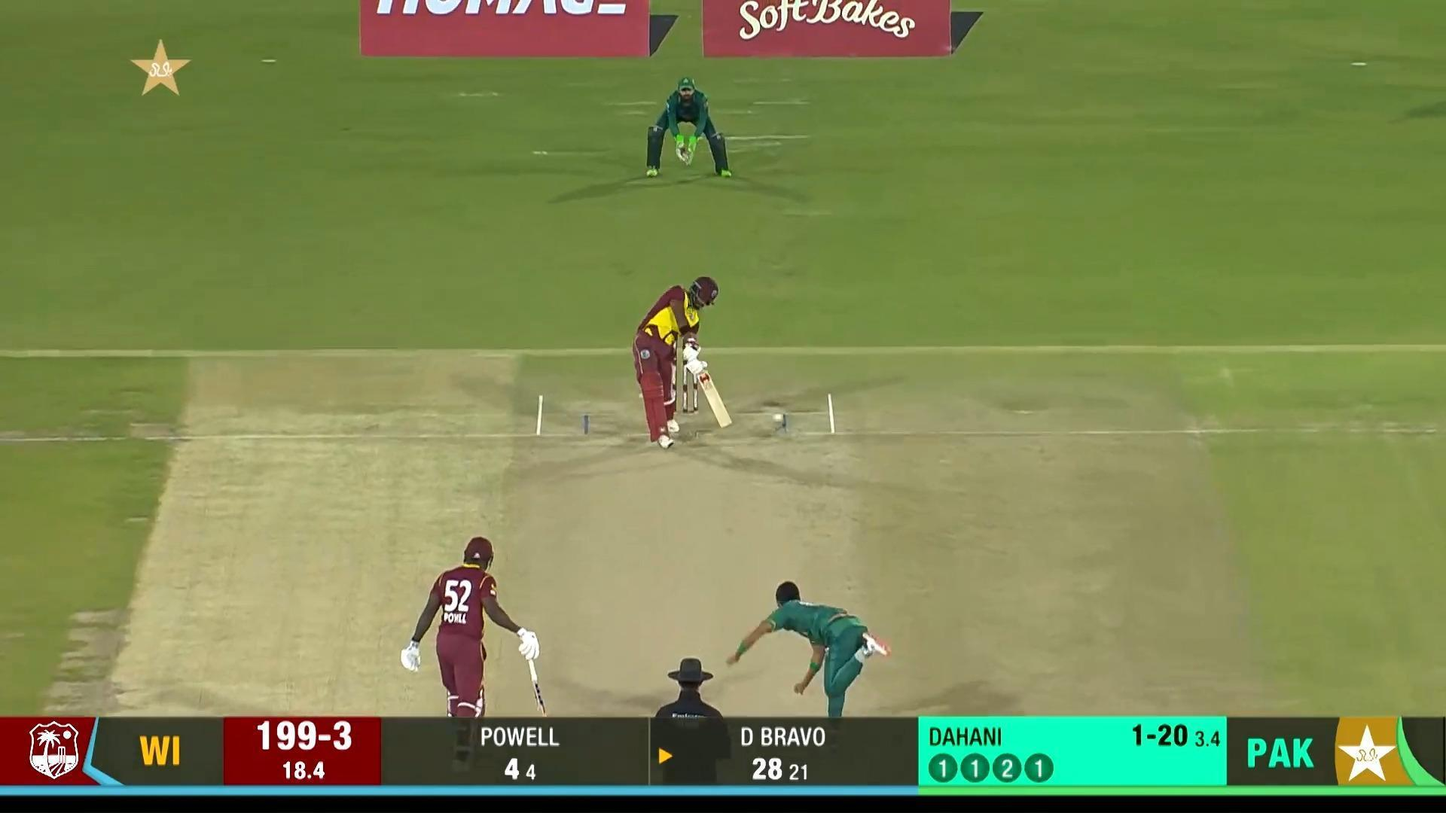BM 1: (633, 275, 733, 449)
BO: (726, 580, 892, 716)
